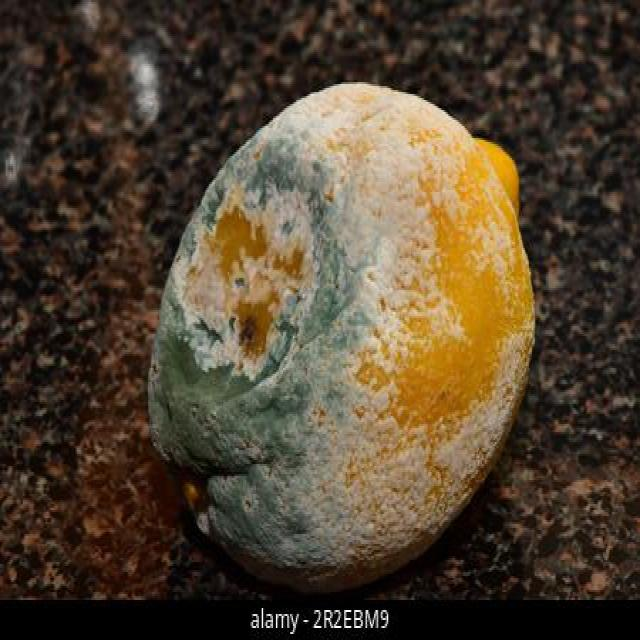Rotten: (148, 77, 535, 593)
